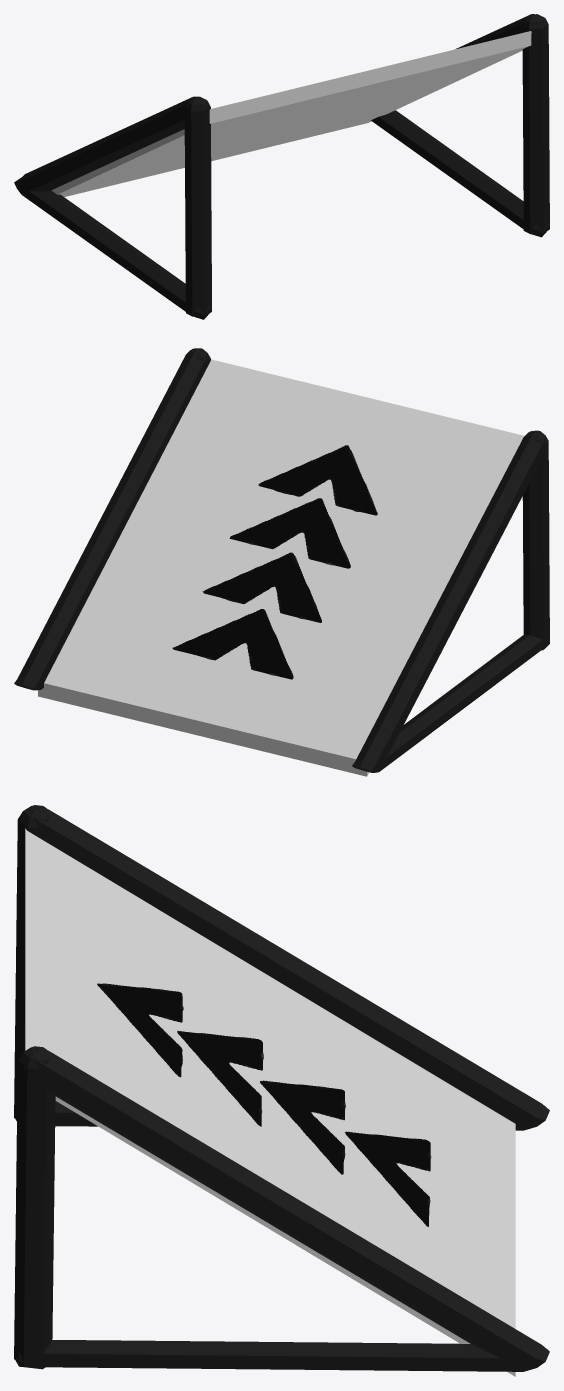
File: hill_obstacle.glb
3 views of the same model, one above another, from view 1: azimuth 30°, elevation 25°; view 2: azimuth 150°, elevation 25°; view 3: azimuth 270°, elevation 25° (orthographic). The views are drawn at different scales.
Parts seen in each view (by area): view 1: hill; view 2: hill; view 3: hill.
Boxes of the visible parts, x1,y1,x2,y2 form: hill: [14, 14, 549, 319]; hill: [14, 348, 549, 776]; hill: [14, 805, 549, 1376].
Size of the model in its own units: 6.8 by 4.13 by 6.04.
Materials: 3 (1 with a texture image).
